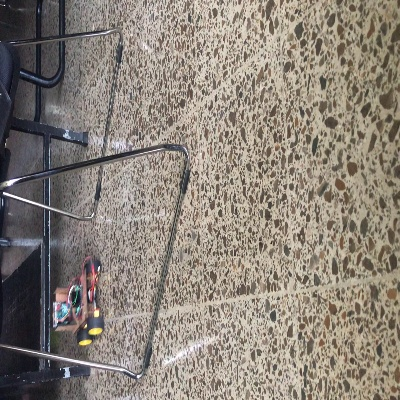Robot: (53, 260, 101, 345)
